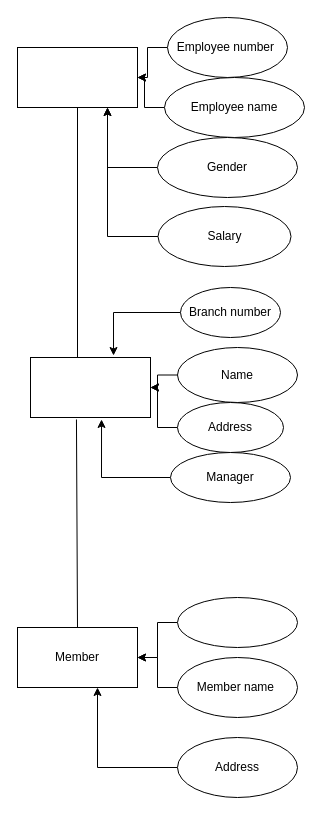
This 322x815 diagram has some shape labels left out. Each missing label, with the box of its shape:
Branch: (30, 356, 150, 418)
Employee: (16, 46, 138, 108)
Member number: (176, 596, 298, 648)
